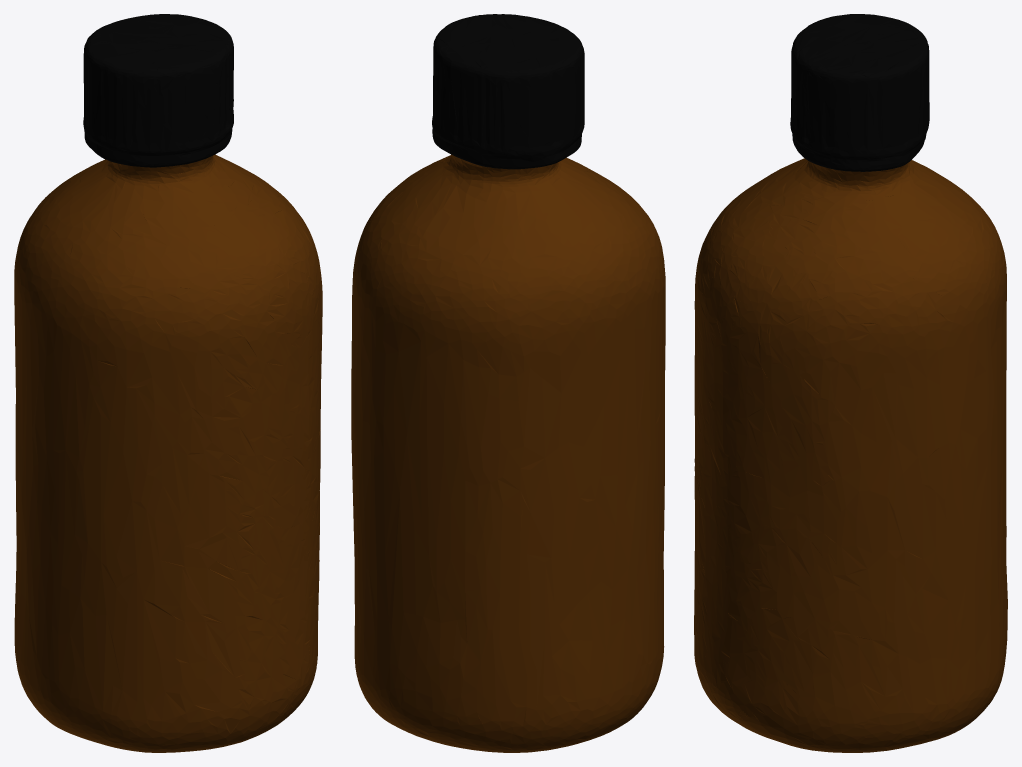
Rendered from brown bottle.glb.
The picture shows the model from 3 angles, left to right: view 1: azimuth 30°, elevation 25°; view 2: azimuth 150°, elevation 25°; view 3: azimuth 270°, elevation 25°; orthographic projection.
Parts seen in each view (by area): view 1: geometry_0; view 2: geometry_0; view 3: geometry_0.
Part boxes in pixels (bbox=[...]): geometry_0: bbox=[14, 14, 322, 752]; geometry_0: bbox=[351, 14, 665, 752]; geometry_0: bbox=[694, 14, 1007, 752].
Size of the model in its own units: 0.7418 by 1.75 by 0.7587.
